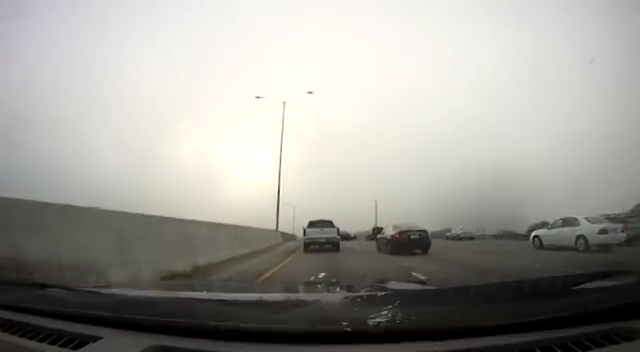car: (530, 215, 627, 251), (375, 223, 432, 255), (303, 219, 341, 253), (597, 214, 640, 243), (444, 227, 477, 241), (370, 226, 390, 244)
